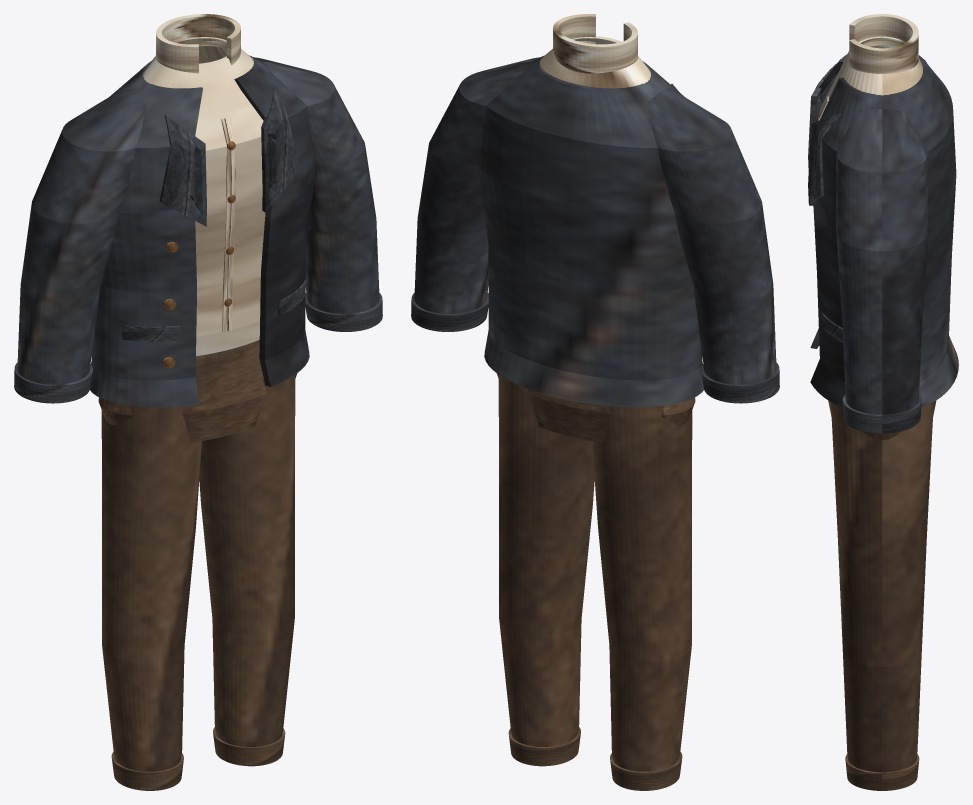
The picture shows the model from 3 angles, left to right: view 1: azimuth 30°, elevation 25°; view 2: azimuth 150°, elevation 25°; view 3: azimuth 270°, elevation 25°; orthographic projection.
Parts seen in each view (by area): view 1: outer_coat, left_trouser_leg, right_trouser_leg, left_coat_sleeve, shirt_body, right_coat_sleeve, trouser_hips, left_lapel, shirt_collar, right_lapel, shirt_placket, left_coat_cuff (+4 smaller); view 2: outer_coat, left_trouser_leg, right_trouser_leg, left_coat_sleeve, right_coat_sleeve, shirt_collar, trouser_hips, shirt_body, left_coat_cuff, right_coat_cuff, left_trouser_cuff, right_trouser_cuff; view 3: right_trouser_leg, right_coat_sleeve, outer_coat, shirt_collar, shirt_body, right_coat_cuff, right_trouser_cuff, right_lapel, left_lapel, right_pocket.
Part boxes in pixels (box(x1,y1,x2,y2)): outer_coat: box(90, 55, 315, 407); left_trouser_leg: box(101, 405, 201, 771); right_trouser_leg: box(199, 375, 295, 746); left_coat_sleeve: box(17, 88, 146, 384); shirt_body: box(143, 37, 265, 356); right_coat_sleeve: box(254, 57, 379, 313); trouser_hips: box(98, 340, 297, 442); left_lapel: box(159, 115, 206, 226); shirt_collar: box(156, 14, 240, 73); right_lapel: box(261, 88, 298, 212); shirt_placket: box(221, 117, 235, 332); left_coat_cuff: box(14, 362, 92, 403); outer_coat: box(478, 55, 703, 407); left_trouser_leg: box(592, 405, 692, 771); right_trouser_leg: box(498, 375, 594, 746); left_coat_sleeve: box(647, 88, 776, 384); right_coat_sleeve: box(414, 57, 539, 313); shirt_collar: box(553, 14, 637, 73); trouser_hips: box(496, 373, 695, 442); shirt_body: box(540, 36, 650, 88); left_coat_cuff: box(701, 362, 779, 403); right_coat_cuff: box(411, 292, 488, 331); left_trouser_cuff: box(610, 752, 682, 790); right_trouser_cuff: box(508, 727, 580, 766); right_trouser_leg: box(831, 402, 933, 772); right_coat_sleeve: box(836, 109, 928, 414); outer_coat: box(810, 47, 958, 407); shirt_collar: box(849, 14, 918, 73); shirt_body: box(819, 36, 922, 115); right_coat_cuff: box(842, 394, 921, 433); right_trouser_cuff: box(845, 754, 919, 790); right_lapel: box(808, 113, 841, 205); left_lapel: box(808, 61, 838, 168); right_pocket: box(820, 312, 843, 342).
Bounding box in the file's own units: 60.28 × 118 × 22.4.
4 materials, 4 textured.
